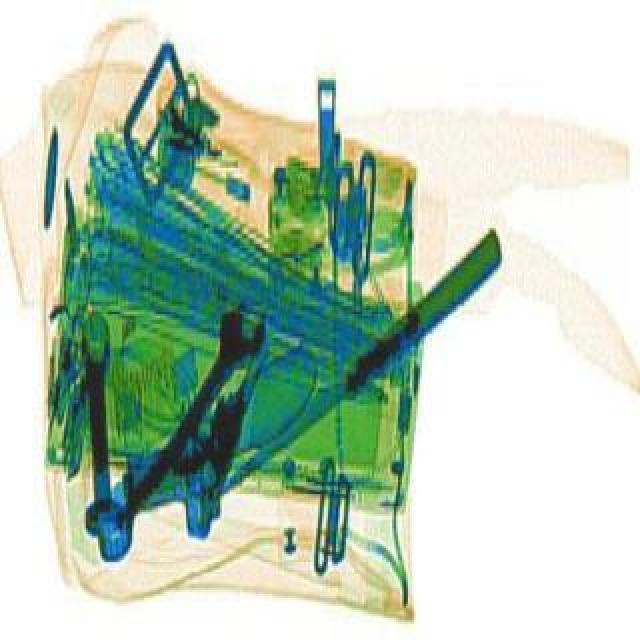gun: (100, 288, 276, 540)
